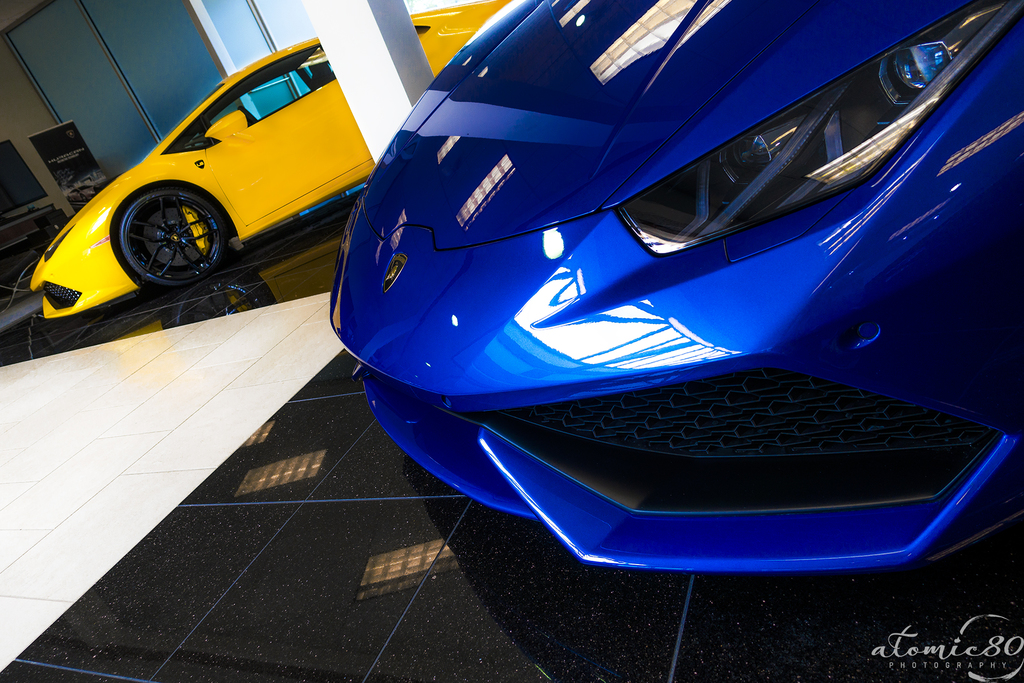Car: (327, 0, 1023, 580), (30, 0, 512, 317)
